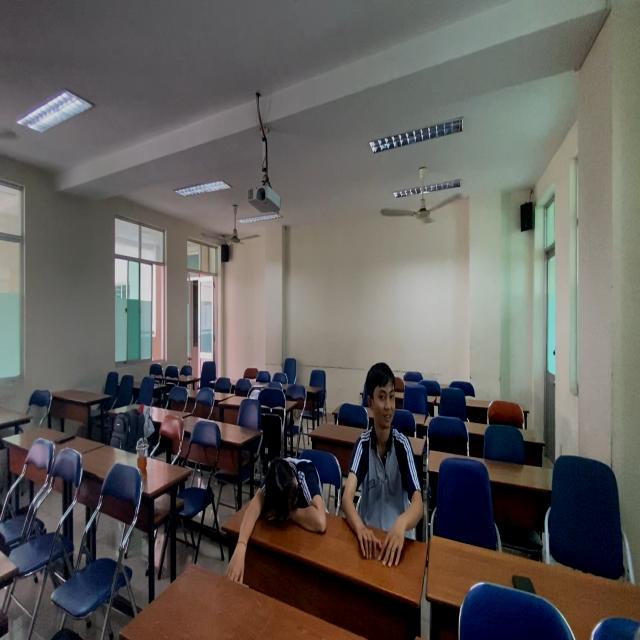sleep: (244, 452, 328, 541)
